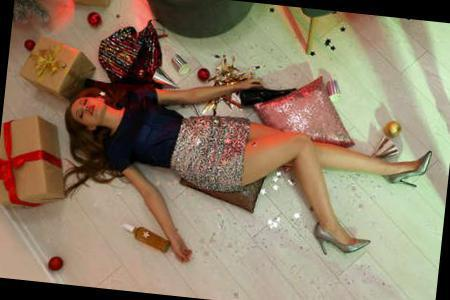Drunk: (72, 97, 104, 122)
